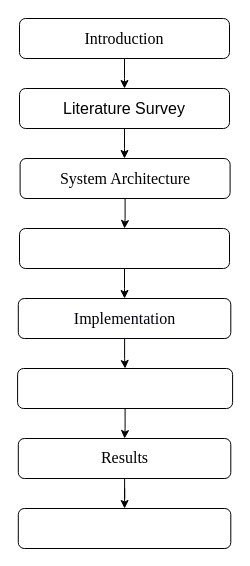
Image size: 250x566. Some labels were removed from this diagram. The shapes that lost their labels are listed below. From the top down, each one's box as (x1, y1, x2, y2) in pixels, then its label:
(18, 228, 230, 268): Design
(17, 368, 233, 408): Testing
(17, 508, 231, 548): Conclusion
